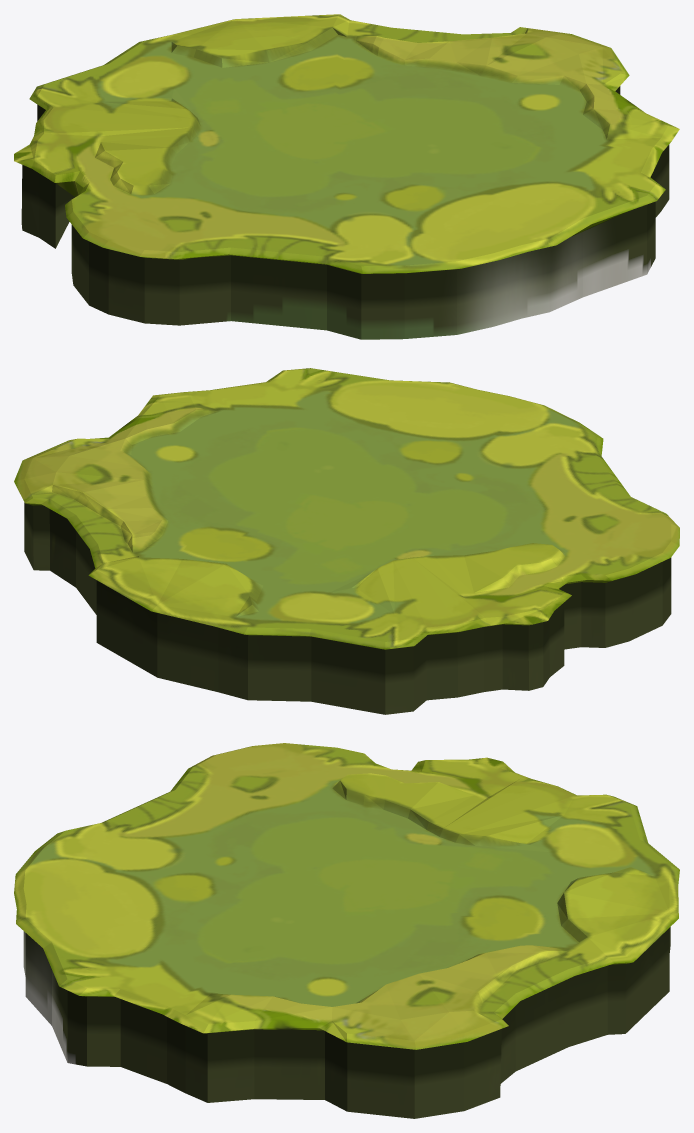
Rendered from yunmengze_daoyu.FBX.
3 renders of one model, top to bottom at view 1: azimuth 30°, elevation 25°; view 2: azimuth 150°, elevation 25°; view 3: azimuth 270°, elevation 25°, orthographic. The views are drawn at different scales.
Visible parts, largest first — view 1: 对象002; view 2: 对象002; view 3: 对象002.
Boxes of the visible parts, box(x1,y1,x2,y2) form: 对象002: box(14, 14, 679, 339); 对象002: box(14, 368, 679, 714); 对象002: box(14, 743, 679, 1118).
Size of the model in its own units: 166 by 23.78 by 152.
